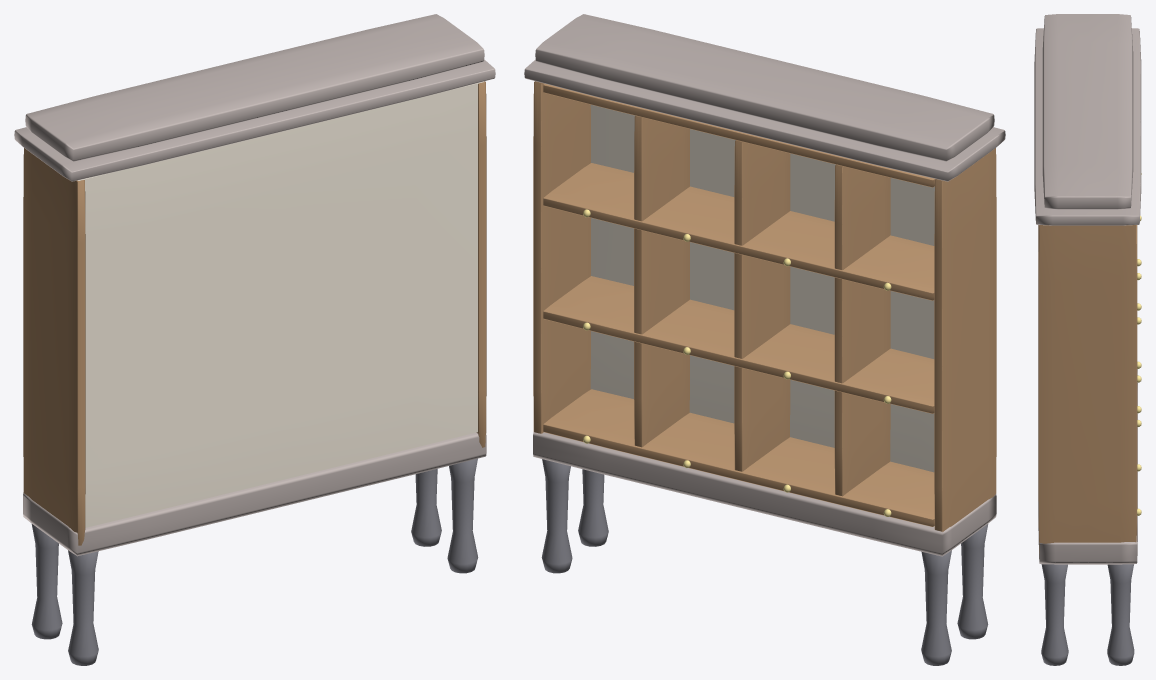
File: MessyMemoryShelf.glb
The picture shows the model from 3 angles, left to right: view 1: azimuth 30°, elevation 25°; view 2: azimuth 150°, elevation 25°; view 3: azimuth 270°, elevation 25°; orthographic projection. The views are drawn at different scales.
Visible parts, largest first — view 1: Back, Trim, Wood, Legs; view 2: Wood, Trim, Back, Legs; view 3: Wood, Trim, Legs, Knobs.
Part boxes in pixels (left/top/right/bottom): Back: left=78, top=81, right=483, bottom=527; Trim: left=14, top=14, right=495, bottom=556; Wood: left=23, top=81, right=486, bottom=545; Legs: left=31, top=458, right=478, bottom=665; Wood: left=533, top=81, right=996, bottom=531; Trim: left=524, top=14, right=1005, bottom=556; Back: left=590, top=104, right=934, bottom=472; Legs: left=541, top=459, right=988, bottom=665; Wood: left=1038, top=225, right=1137, bottom=553; Trim: left=1034, top=14, right=1141, bottom=564; Legs: left=1041, top=564, right=1134, bottom=665; Knobs: left=1137, top=173, right=1141, bottom=515.
Bounding box in the file's own units: 10.85 × 12.7 × 2.61.
